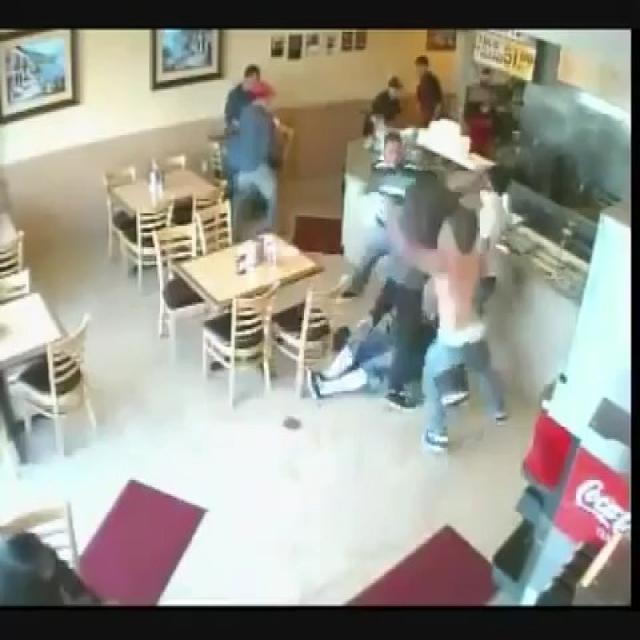fight: (334, 121, 543, 432)
